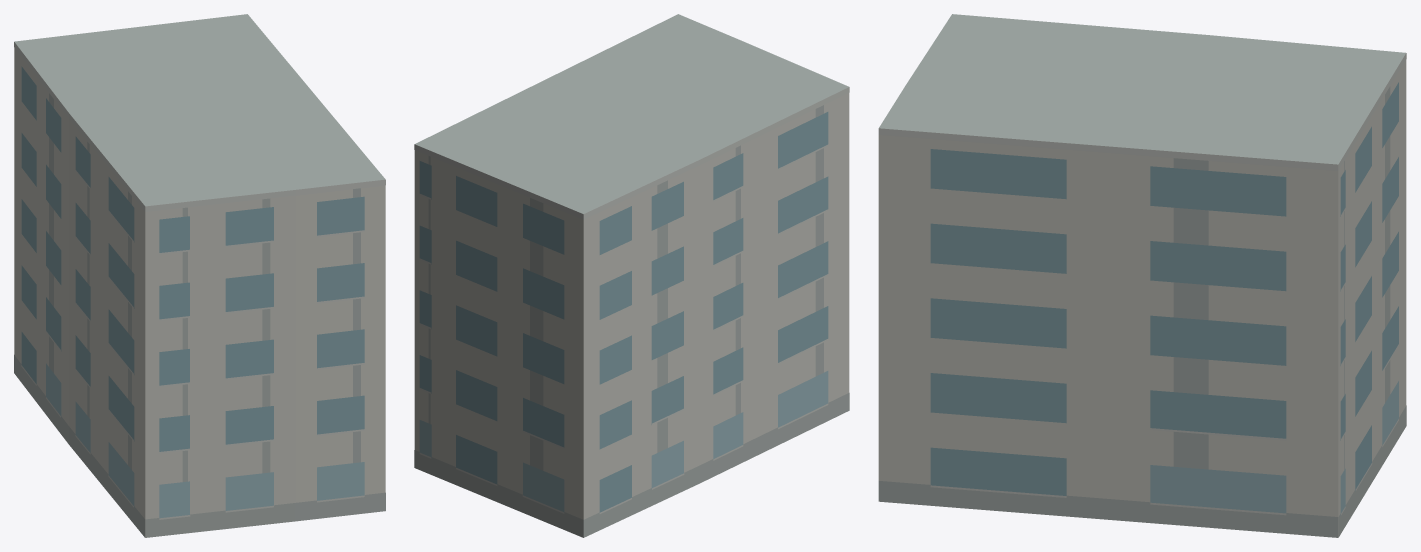
Rendered from survey-upis-32810029.glb.
3 views of the same model, side by side, from view 1: azimuth 30°, elevation 25°; view 2: azimuth 150°, elevation 25°; view 3: azimuth 270°, elevation 25° (orthographic). The views are drawn at different scales.
Visible parts, largest first — view 1: survey-upis-32810029.tmp; view 2: survey-upis-32810029.tmp; view 3: survey-upis-32810029.tmp.
Boxes of the visible parts, x1=… form: survey-upis-32810029.tmp: x1=14, y1=14, x2=385, y2=537; survey-upis-32810029.tmp: x1=414, y1=14, x2=849, y2=537; survey-upis-32810029.tmp: x1=878, y1=14, x2=1406, y2=537.
Bounding box in the file's own units: 12.03 × 13.9 × 17.82.
